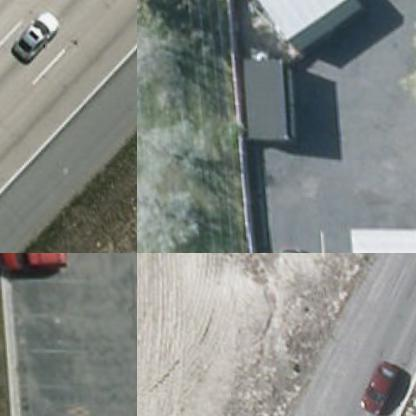car: (5, 7, 67, 66), (350, 357, 400, 415), (0, 253, 71, 274)
